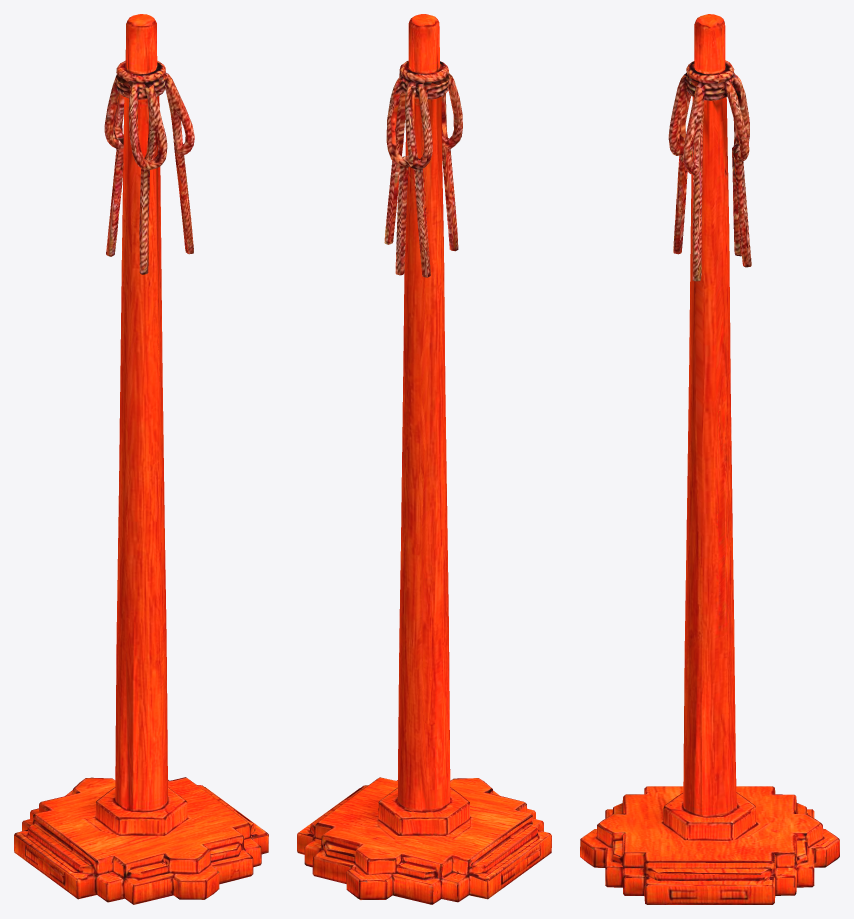
The model's file is qm_mast_lo.glb.
3 renders of one model, left to right at view 1: azimuth 30°, elevation 25°; view 2: azimuth 150°, elevation 25°; view 3: azimuth 270°, elevation 25°, orthographic.
Parts seen in each view (by area): view 1: qm_mast; view 2: qm_mast; view 3: qm_mast.
Boxes of the visible parts, <box> form: qm_mast: <box>14,14,268,904</box>; qm_mast: <box>297,14,551,904</box>; qm_mast: <box>580,14,839,904</box>.
Size of the model in its own units: 2.92 by 12 by 3.36.
1 material, 1 textured.
